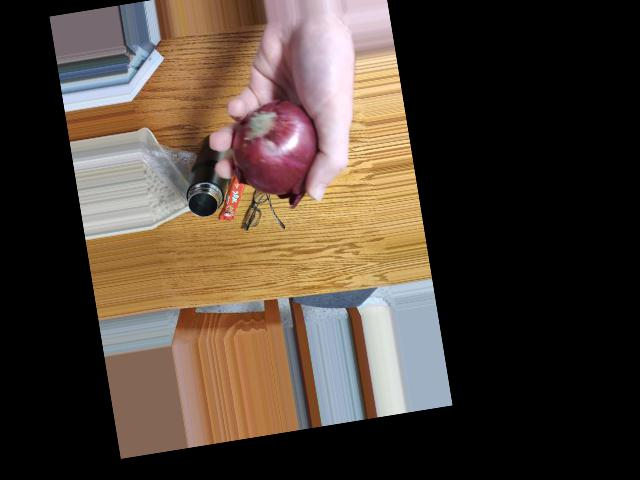onion: (228, 101, 323, 197)
